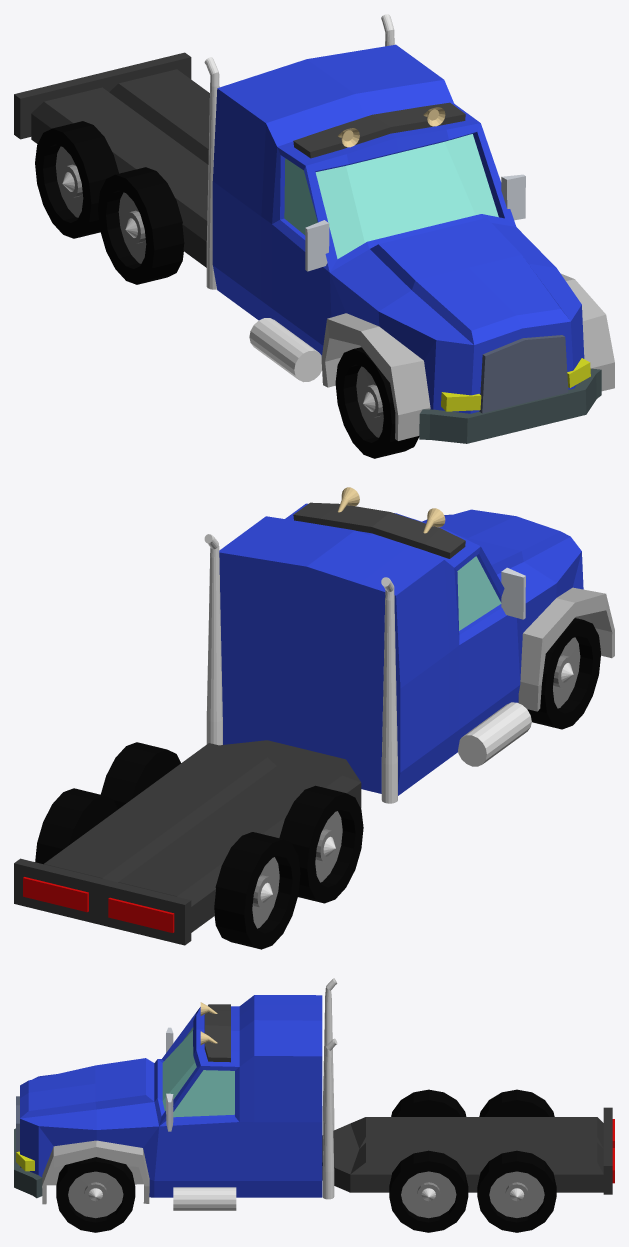
Rendered from Truck.fbx.
3 views of the same model, one above another, from view 1: azimuth 30°, elevation 25°; view 2: azimuth 150°, elevation 25°; view 3: azimuth 270°, elevation 25° (orthographic). The views are drawn at different scales.
Visible parts, largest first — view 1: Cube; view 2: Cube; view 3: Cube.
Boxes of the visible parts, box(x1,y1,x2,y2) form: Cube: box(14, 14, 614, 458); Cube: box(14, 487, 614, 949); Cube: box(14, 978, 614, 1232).
Bounding box in the file's own units: 452 × 489 × 1413.
